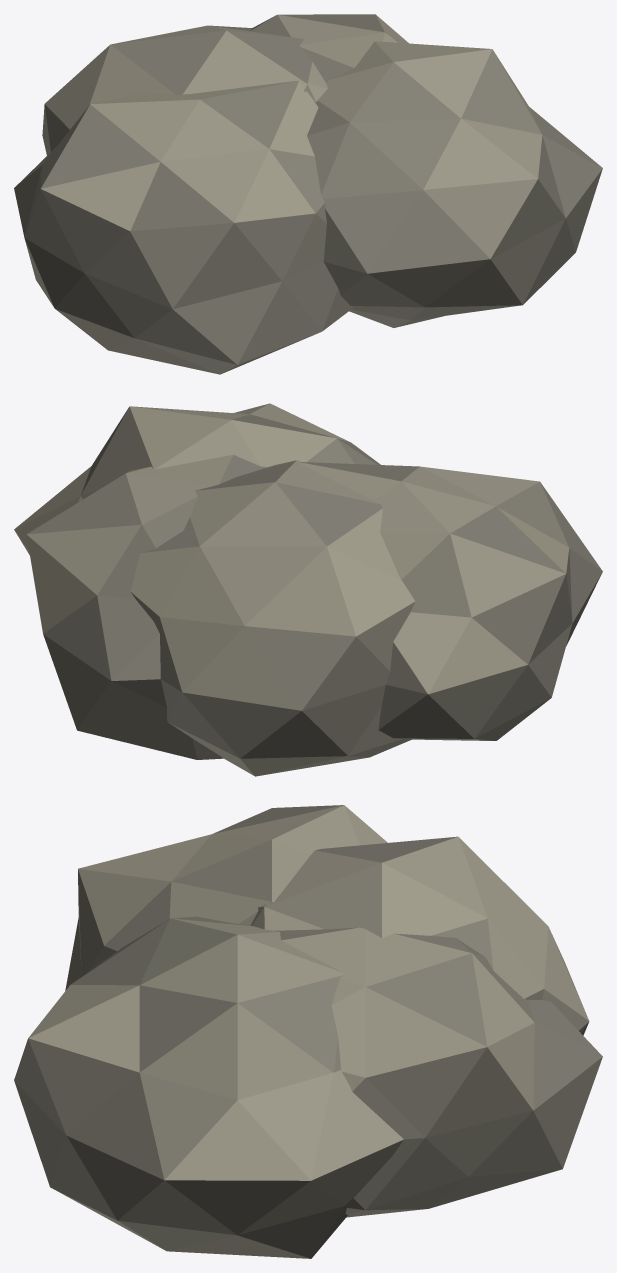
File: rock_cluster.glb
3 renders of one model, top to bottom at view 1: azimuth 30°, elevation 25°; view 2: azimuth 150°, elevation 25°; view 3: azimuth 270°, elevation 25°, orthographic. The views are drawn at different scales.
Parts seen in each view (by area): view 1: rock_cluster; view 2: rock_cluster; view 3: rock_cluster.
Part boxes in pixels (box(x1,y1,x2,y2)): rock_cluster: box(14, 14, 602, 374); rock_cluster: box(14, 403, 602, 776); rock_cluster: box(14, 805, 602, 1258).
Bounding box in the file's own units: 1.82 × 0.9337 × 1.56.
